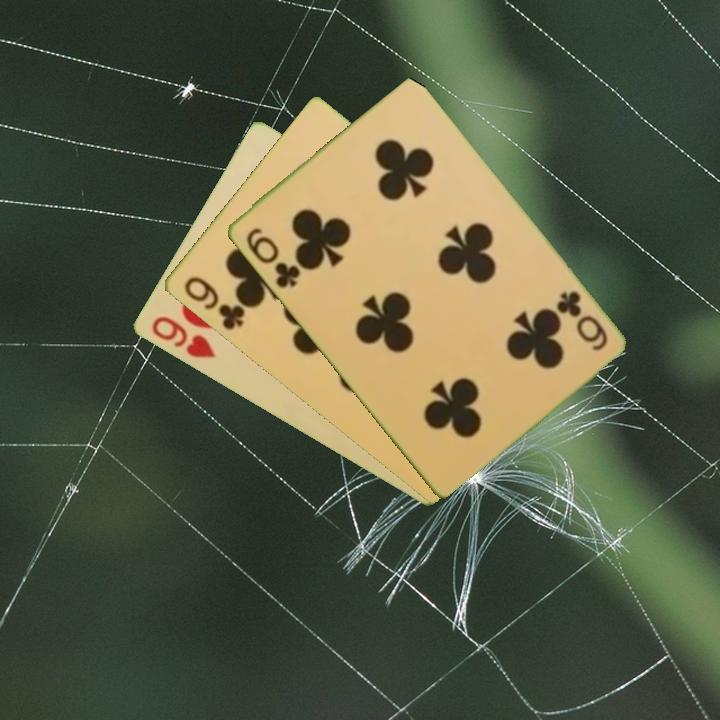6c: (242, 224, 303, 291), (552, 287, 610, 354)
9c: (180, 273, 248, 334)
9h: (147, 312, 218, 362)
